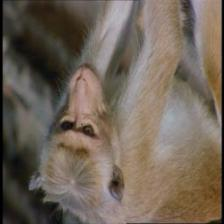monkey: (16, 33, 134, 217)
